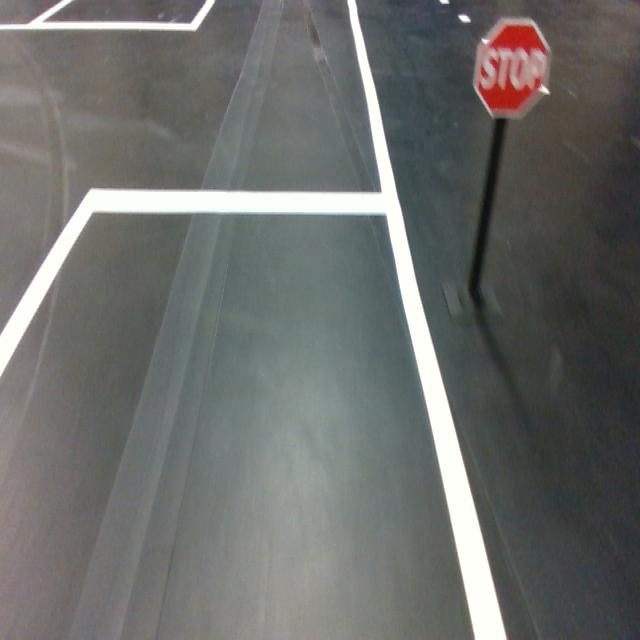stop-sign: (471, 16, 554, 120)
